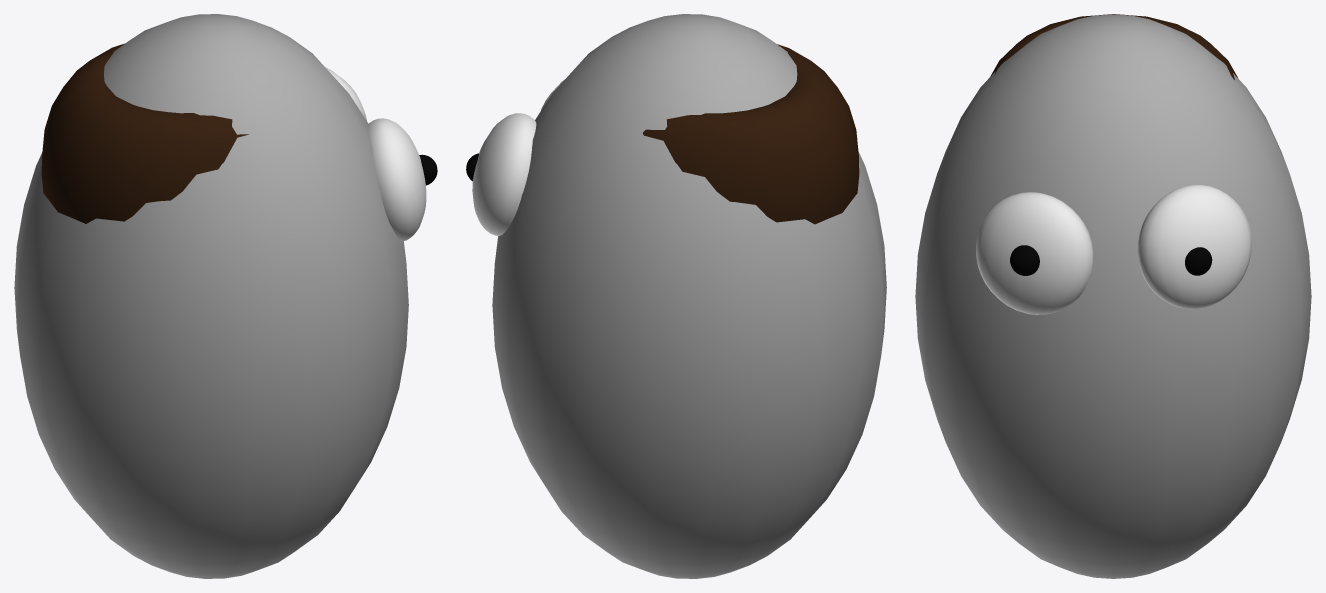
File: CharEyesCalvasBrown.fbx
The picture shows the model from 3 angles, left to right: view 1: azimuth 30°, elevation 25°; view 2: azimuth 150°, elevation 25°; view 3: azimuth 270°, elevation 25°; orthographic projection.
Parts seen in each view (by area): view 1: pSphere8; view 2: pSphere8; view 3: pSphere8.
Boxes of the visible parts, x1,y1,x2,y2 form: pSphere8: (14, 14, 437, 578); pSphere8: (466, 14, 886, 578); pSphere8: (915, 14, 1311, 578).
Size of the model in its own units: 2.95 by 4.32 by 2.88.
